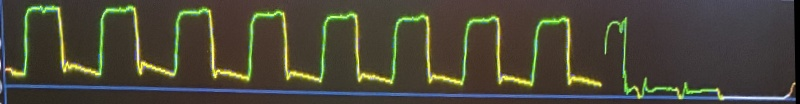normal_pressure: (0, 6, 756, 90)
